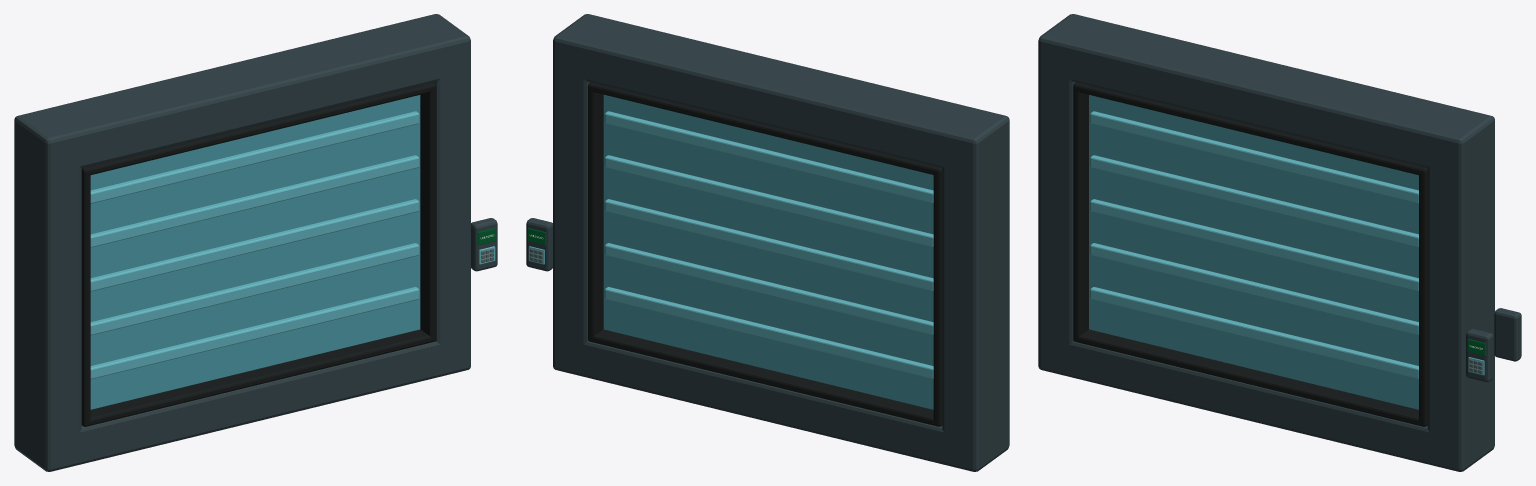
File: Grande porte de hangar.glb
The picture shows the model from 3 angles, left to right: view 1: azimuth 30°, elevation 25°; view 2: azimuth 150°, elevation 25°; view 3: azimuth 330°, elevation 25°; orthographic projection.
Visible parts, largest first — view 1: HANGAR_Wide_Vertical_Lift_Panel_4x3m, HANGAR_Frame_Top, HANGAR_Frame_Left, HANGAR_Frame_Bottom_Threshold, HANGAR_Frame_Right, HANGAR_Inner_Rubber_Seal_Bottom, HANGAR_Front_Section_Rib_3, HANGAR_Front_Section_Rib_1, HANGAR_Front_Section_Rib_2, HANGAR_Front_Section_Rib_0, HANGAR_Front_Section_Rib_4, HANGAR_Inner_Rubber_Seal_Right (+3 smaller); view 2: HANGAR_Wide_Vertical_Lift_Panel_4x3m, HANGAR_Frame_Top, HANGAR_Frame_Left, HANGAR_Frame_Bottom_Threshold, HANGAR_Frame_Right, HANGAR_Inner_Rubber_Seal_Bottom, HANGAR_Back_Section_Rib_3, HANGAR_Back_Section_Rib_1, HANGAR_Back_Section_Rib_2, HANGAR_Back_Section_Rib_0, HANGAR_Back_Section_Rib_4, HANGAR_Inner_Rubber_Seal_Right (+3 smaller); view 3: HANGAR_Wide_Vertical_Lift_Panel_4x3m, HANGAR_Frame_Top, HANGAR_Frame_Right, HANGAR_Frame_Bottom_Threshold, HANGAR_Frame_Left, HANGAR_Inner_Rubber_Seal_Bottom, HANGAR_Front_Section_Rib_4, HANGAR_Front_Section_Rib_2, HANGAR_Front_Section_Rib_3, HANGAR_Front_Section_Rib_0, HANGAR_Front_Section_Rib_1, HANGAR_Inner_Rubber_Seal_Left (+4 smaller).
Part boxes in pixels (x1,y1,x2,y2): HANGAR_Wide_Vertical_Lift_Panel_4x3m: (90, 95, 420, 409); HANGAR_Frame_Top: (14, 21, 470, 173); HANGAR_Frame_Left: (14, 109, 81, 471); HANGAR_Frame_Bottom_Threshold: (14, 337, 470, 471); HANGAR_Frame_Right: (407, 14, 470, 376); HANGAR_Inner_Rubber_Seal_Bottom: (83, 329, 435, 426); HANGAR_Front_Section_Rib_3: (90, 155, 419, 247); HANGAR_Front_Section_Rib_1: (90, 243, 419, 335); HANGAR_Front_Section_Rib_2: (90, 199, 419, 291); HANGAR_Front_Section_Rib_0: (90, 287, 419, 379); HANGAR_Front_Section_Rib_4: (90, 111, 419, 203); HANGAR_Inner_Rubber_Seal_Right: (420, 83, 436, 342); HANGAR_Wide_Vertical_Lift_Panel_4x3m: (603, 94, 933, 409); HANGAR_Frame_Top: (553, 21, 1009, 173); HANGAR_Frame_Left: (942, 109, 1009, 471); HANGAR_Frame_Bottom_Threshold: (553, 336, 1009, 471); HANGAR_Frame_Right: (553, 14, 616, 376); HANGAR_Inner_Rubber_Seal_Bottom: (588, 329, 940, 426); HANGAR_Back_Section_Rib_3: (604, 155, 933, 247); HANGAR_Back_Section_Rib_1: (604, 243, 933, 335); HANGAR_Back_Section_Rib_2: (604, 199, 933, 291); HANGAR_Back_Section_Rib_0: (604, 287, 933, 379); HANGAR_Back_Section_Rib_4: (604, 111, 933, 203); HANGAR_Inner_Rubber_Seal_Right: (588, 82, 603, 340); HANGAR_Wide_Vertical_Lift_Panel_4x3m: (1089, 95, 1418, 409); HANGAR_Frame_Top: (1038, 21, 1494, 173); HANGAR_Frame_Right: (1427, 109, 1494, 471); HANGAR_Frame_Bottom_Threshold: (1038, 336, 1494, 471); HANGAR_Frame_Left: (1038, 14, 1101, 376); HANGAR_Inner_Rubber_Seal_Bottom: (1073, 329, 1427, 426); HANGAR_Front_Section_Rib_4: (1090, 111, 1418, 203); HANGAR_Front_Section_Rib_2: (1090, 199, 1418, 291); HANGAR_Front_Section_Rib_3: (1090, 155, 1418, 247); HANGAR_Front_Section_Rib_0: (1090, 287, 1418, 379); HANGAR_Front_Section_Rib_1: (1090, 243, 1418, 335); HANGAR_Inner_Rubber_Seal_Left: (1073, 82, 1088, 342).
Bounding box in the file's own units: 4.25 × 3 × 0.594.
